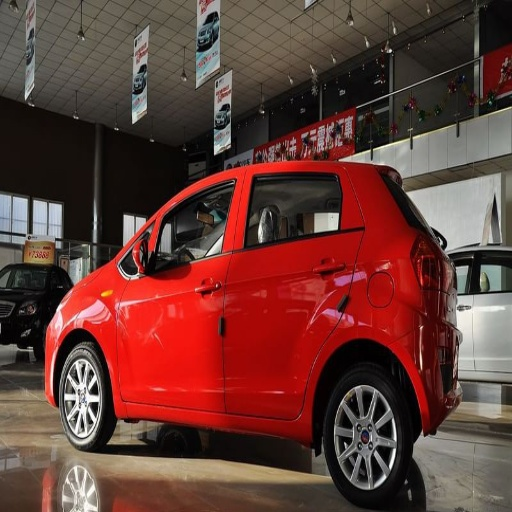back_left_door: (224, 170, 365, 418)
